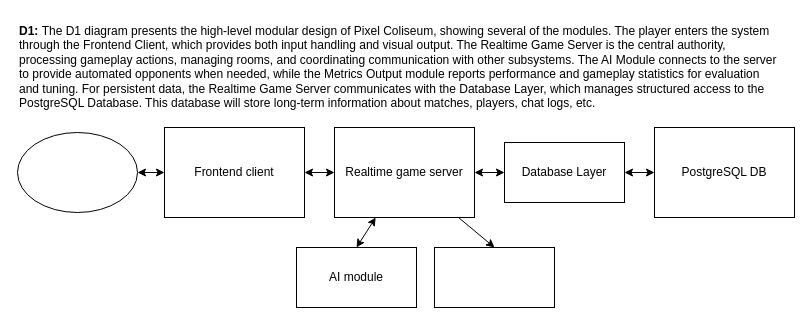
The diagram is 812 pixels wide and 325 high, and some of its shapes have lost their labels. Each missing label, with the box of its shape:
Metrics output: (434, 246, 554, 308)
Player/browser interaction: (16, 132, 138, 212)
